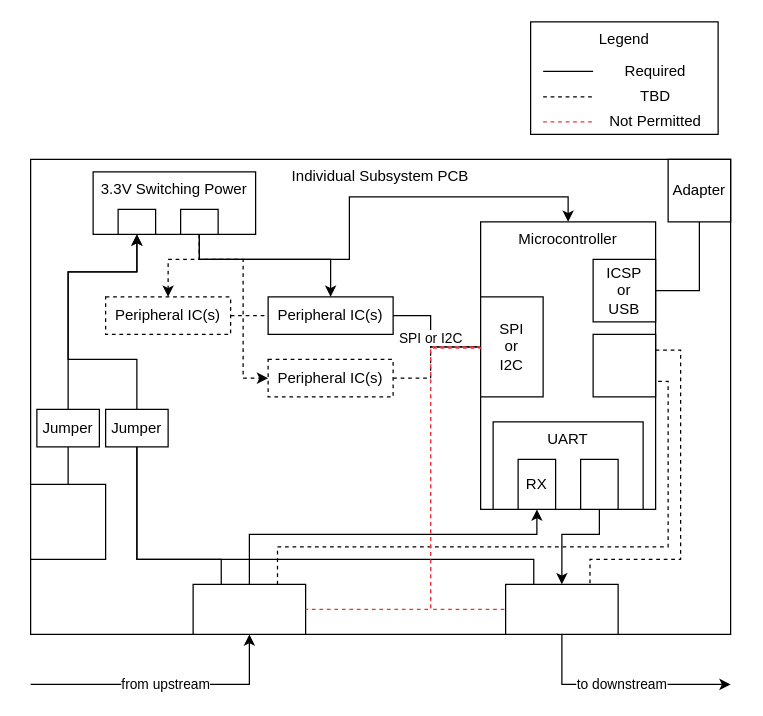
This 763x716 diagram has some shape labels left out. The shapes that lost their labels are listed below. From the top down, each one's centre as x and y in pixels, then its label:
At (x=136, y=221): "Vin".
At (x=198, y=221): "Vout".
At (x=624, y=365): "GPIO".
At (x=598, y=483): "TX".
At (x=67, y=521): "DC Barrel Jack".
At (x=249, y=608): "Connector In (4x2)".
At (x=561, y=608): "Connector Out (4x2)".
